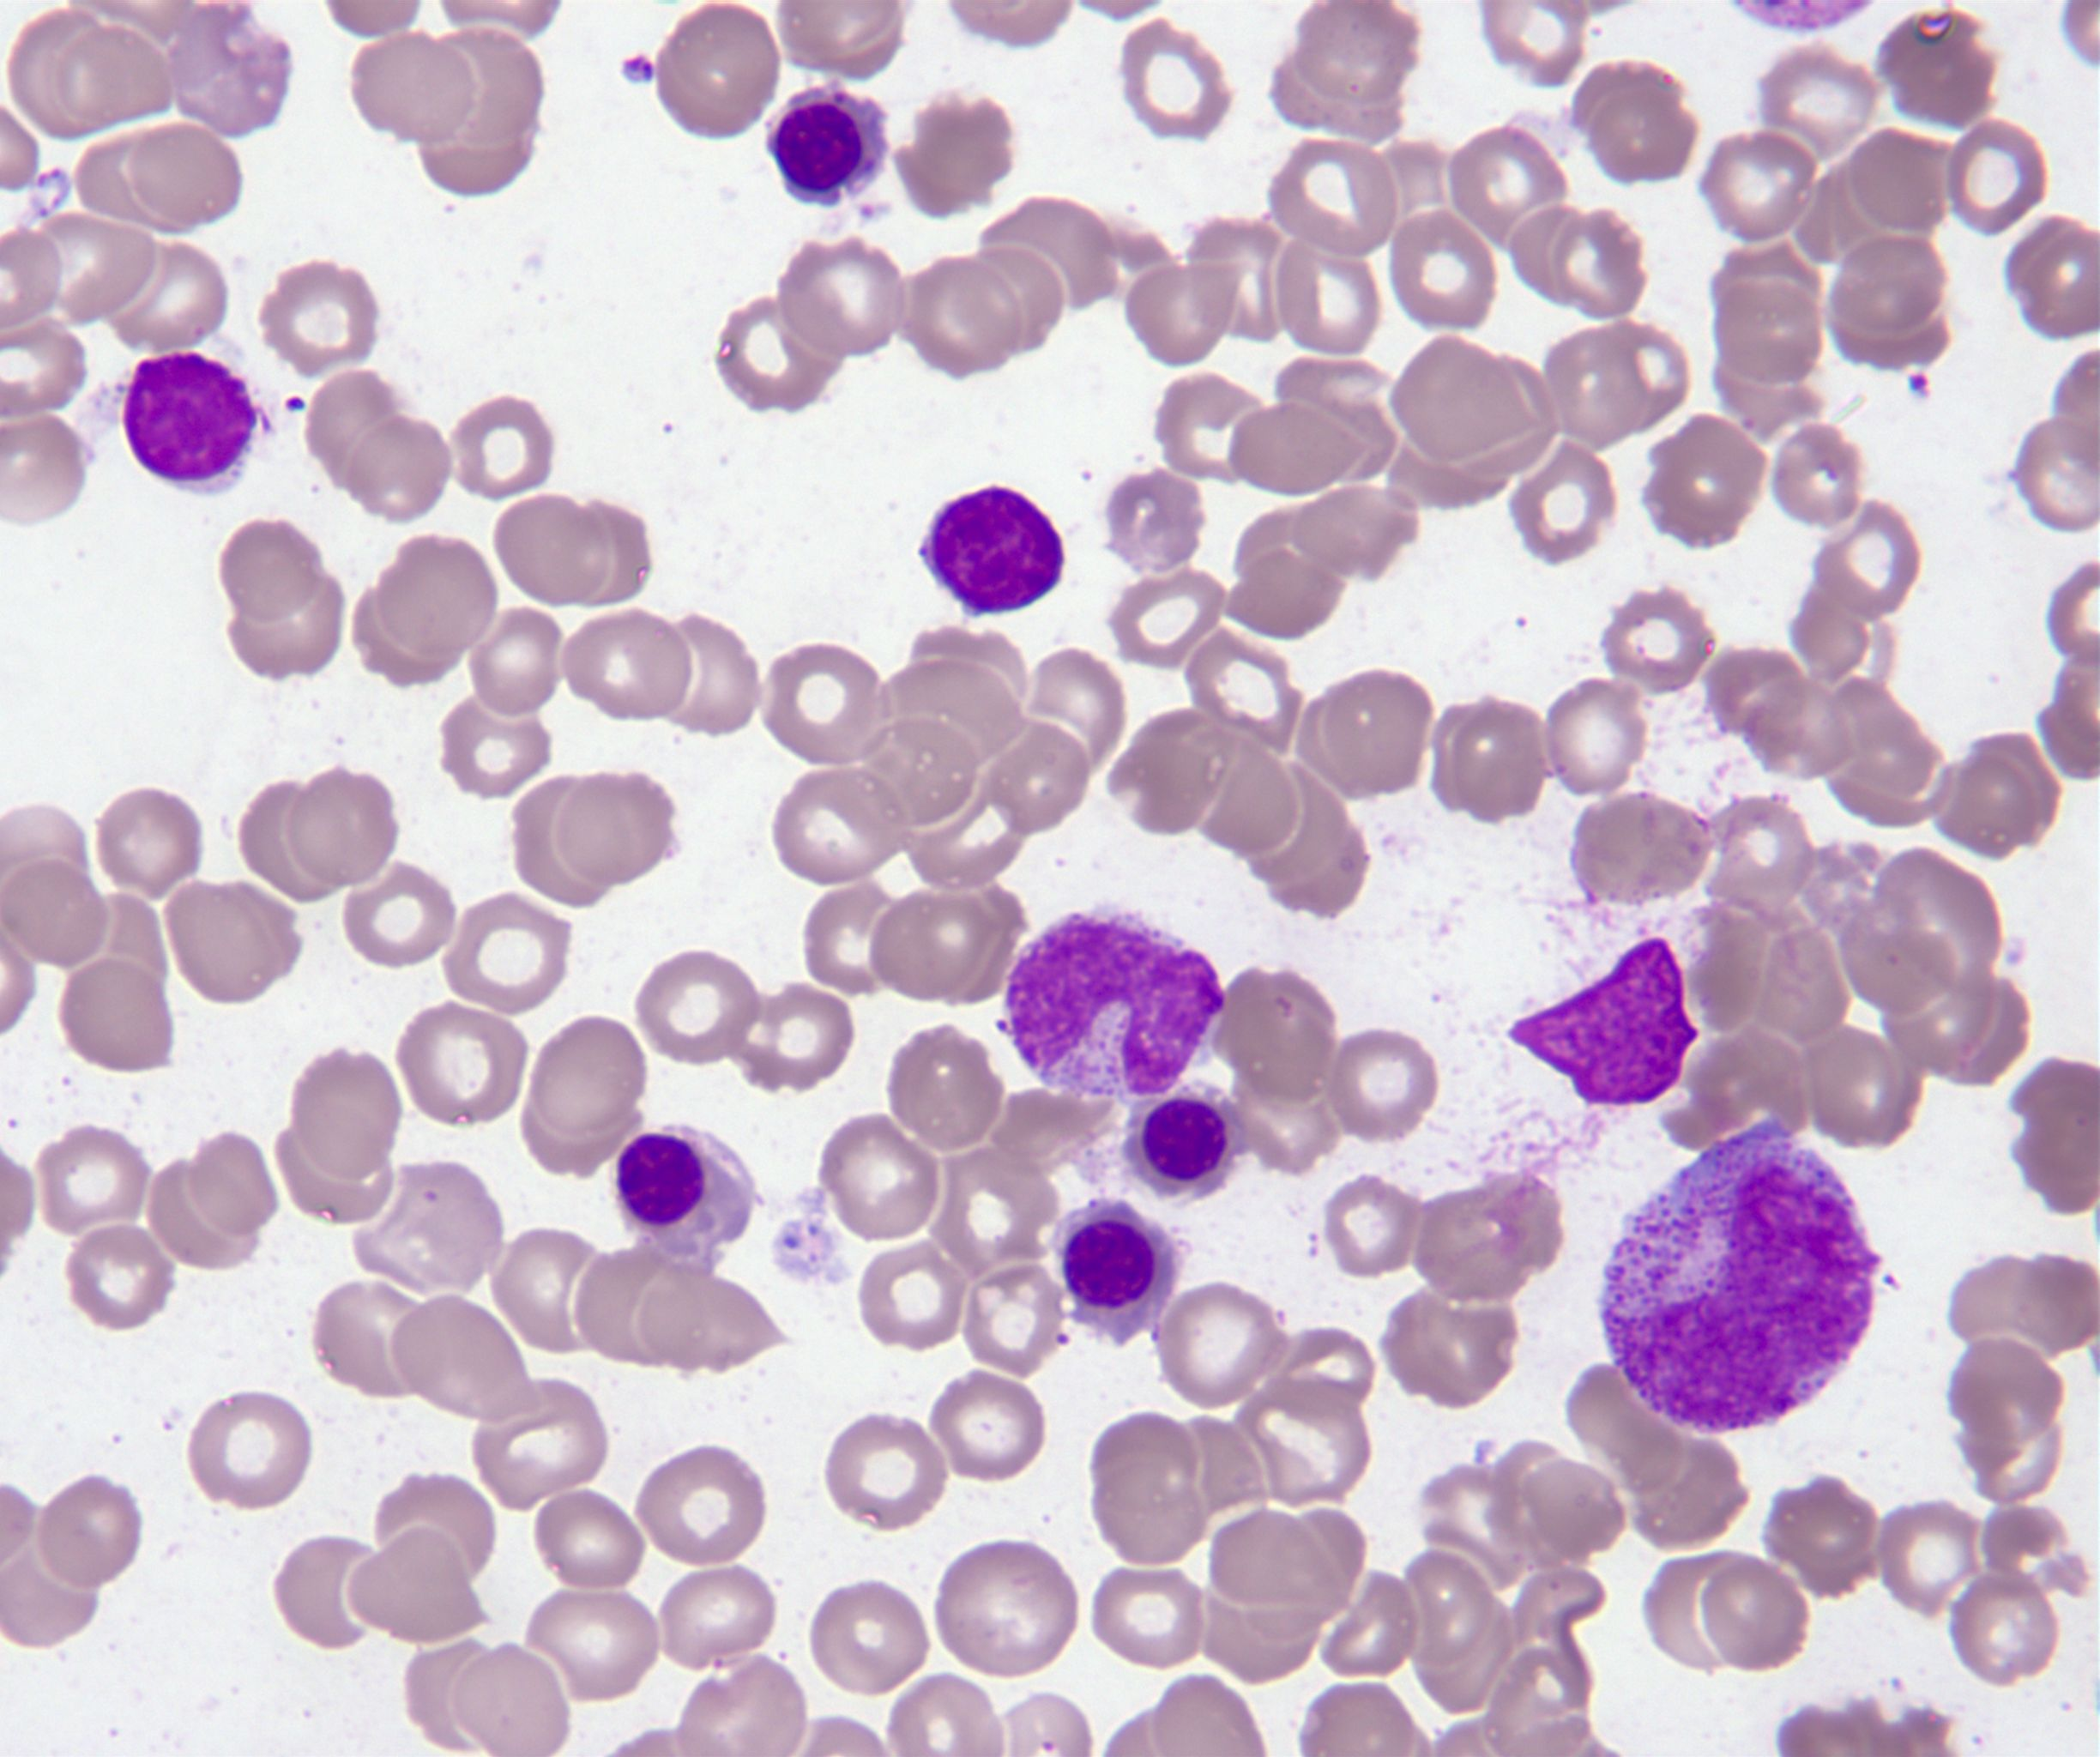24: (614, 1127, 755, 1268), (1050, 1199, 1177, 1347), (766, 84, 890, 206), (1127, 1082, 1244, 1200)
3: (1603, 1120, 1882, 1436)
32: (919, 485, 1064, 618)
4: (1008, 902, 1224, 1097)
x: (1509, 937, 1697, 1108), (124, 351, 256, 480)
